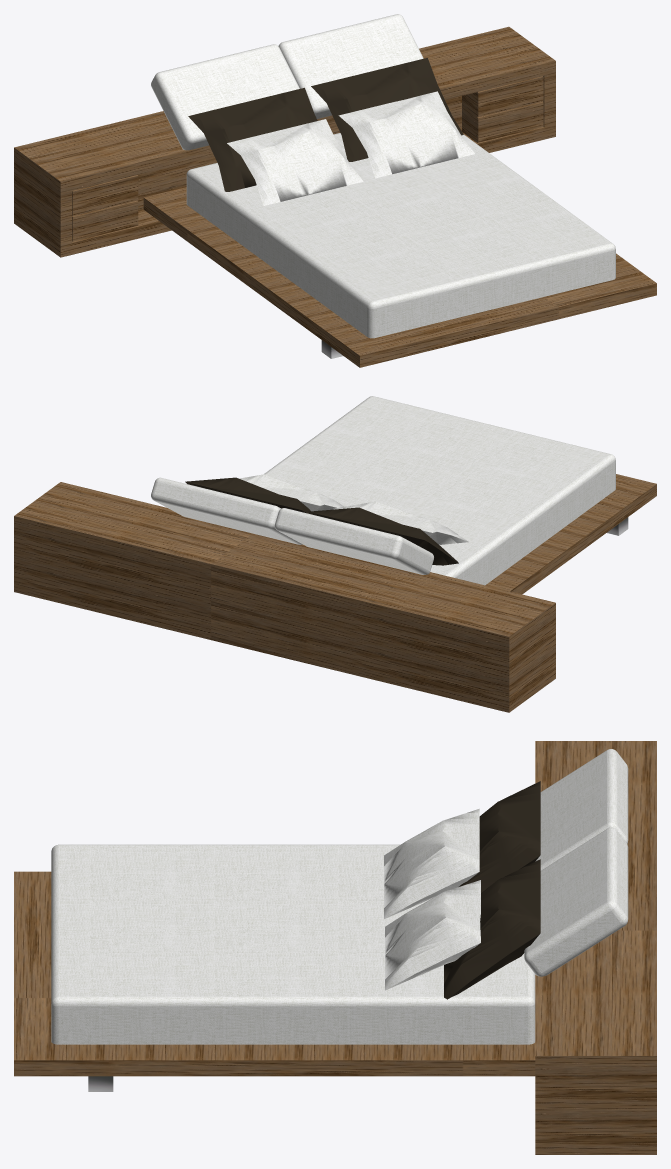
File: Bed.dae
3 renders of one model, top to bottom at view 1: azimuth 30°, elevation 25°; view 2: azimuth 150°, elevation 25°; view 3: azimuth 270°, elevation 25°, orthographic. The views are drawn at different scales.
Parts seen in each view (by area): view 1: SketchUp (×6), pillow_2 (×2), pillow_1 (×2); view 2: SketchUp (×4), pillow_1 (×2), pillow_2 (×2); view 3: SketchUp (×4), pillow_2 (×2), pillow_1 (×2).
Boxes of the visible parts, box(x1,y1,x2,y2) form: SketchUp (×6): box(14, 14, 656, 367); pillow_2 (×2): box(227, 91, 474, 205); pillow_1 (×2): box(188, 58, 463, 191); SketchUp (×4): box(14, 396, 656, 712); pillow_1 (×2): box(185, 477, 458, 565); pillow_2 (×2): box(239, 474, 468, 544); SketchUp (×4): box(14, 741, 656, 1154); pillow_2 (×2): box(384, 808, 480, 990); pillow_1 (×2): box(444, 781, 540, 999).
Size of the model in its own units: 118 by 102 by 30.16.
